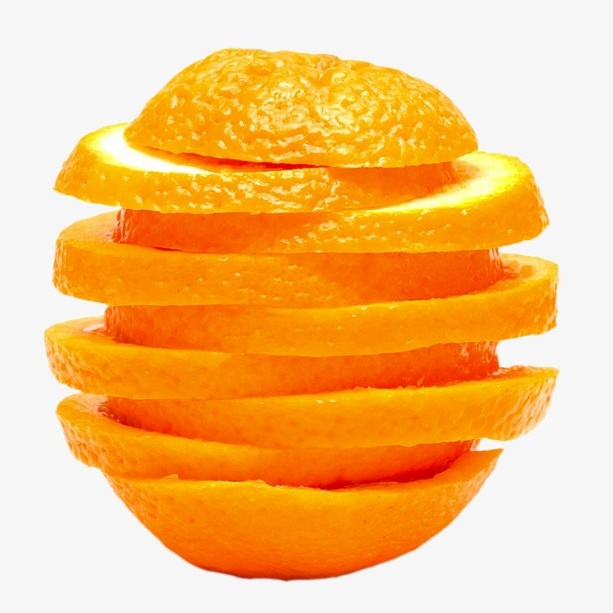mandarin: (53, 43, 555, 580)
